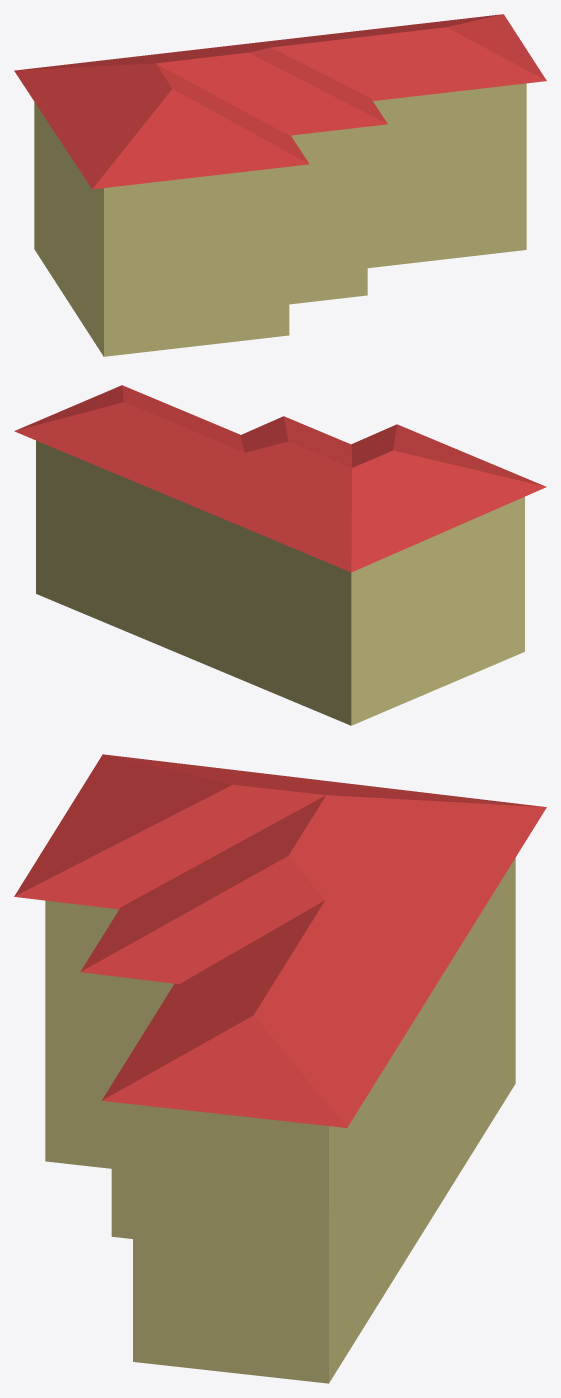
The picture shows the model from 3 angles, top to bottom: view 1: azimuth 30°, elevation 25°; view 2: azimuth 150°, elevation 25°; view 3: azimuth 270°, elevation 25°; orthographic projection. The views are drawn at different scales.
Size of the model in its own units: 25.55 by 15.54 by 10.75.
